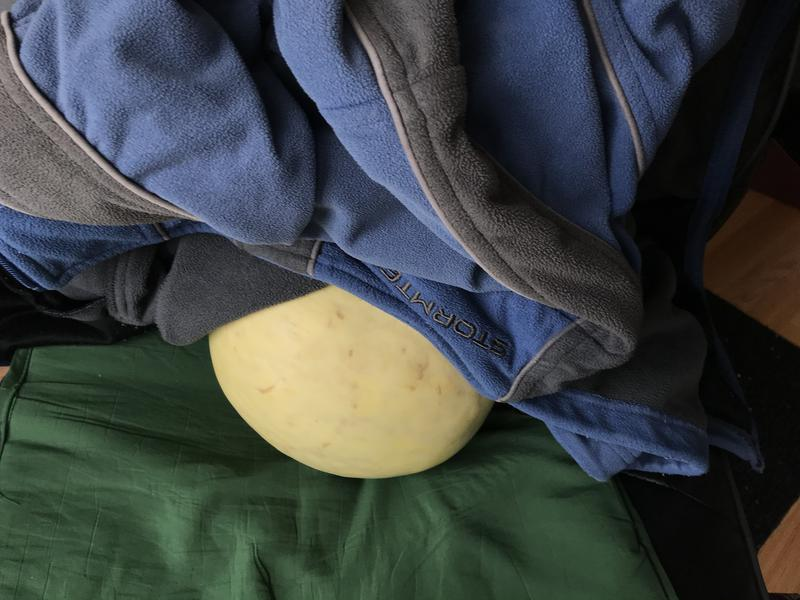honeydew: (196, 258, 511, 486)
